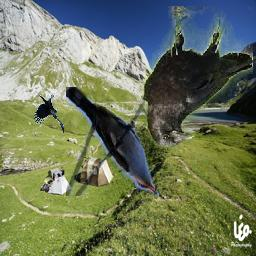Crow: (141, 6, 253, 148), (34, 94, 65, 137)
Cuckoo: (67, 88, 160, 197)
